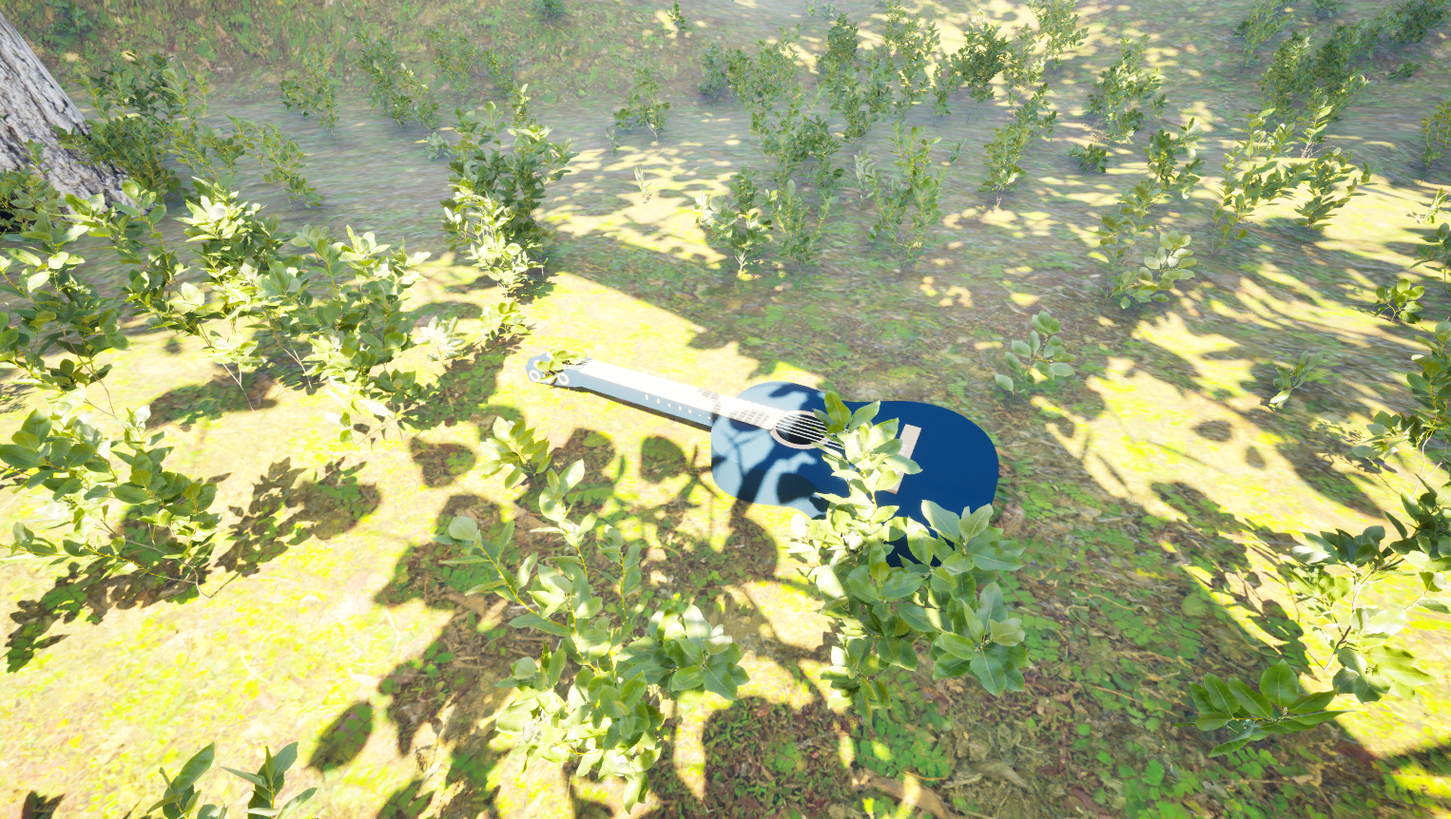Guitar: (461, 315, 1010, 602)
